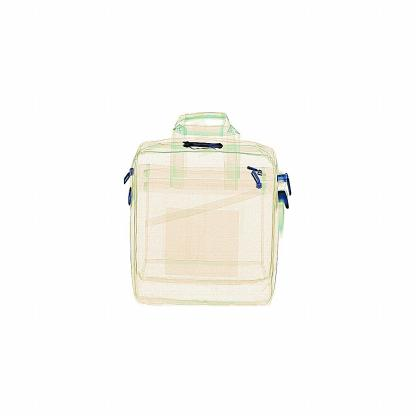knife: (176, 131, 236, 167)
